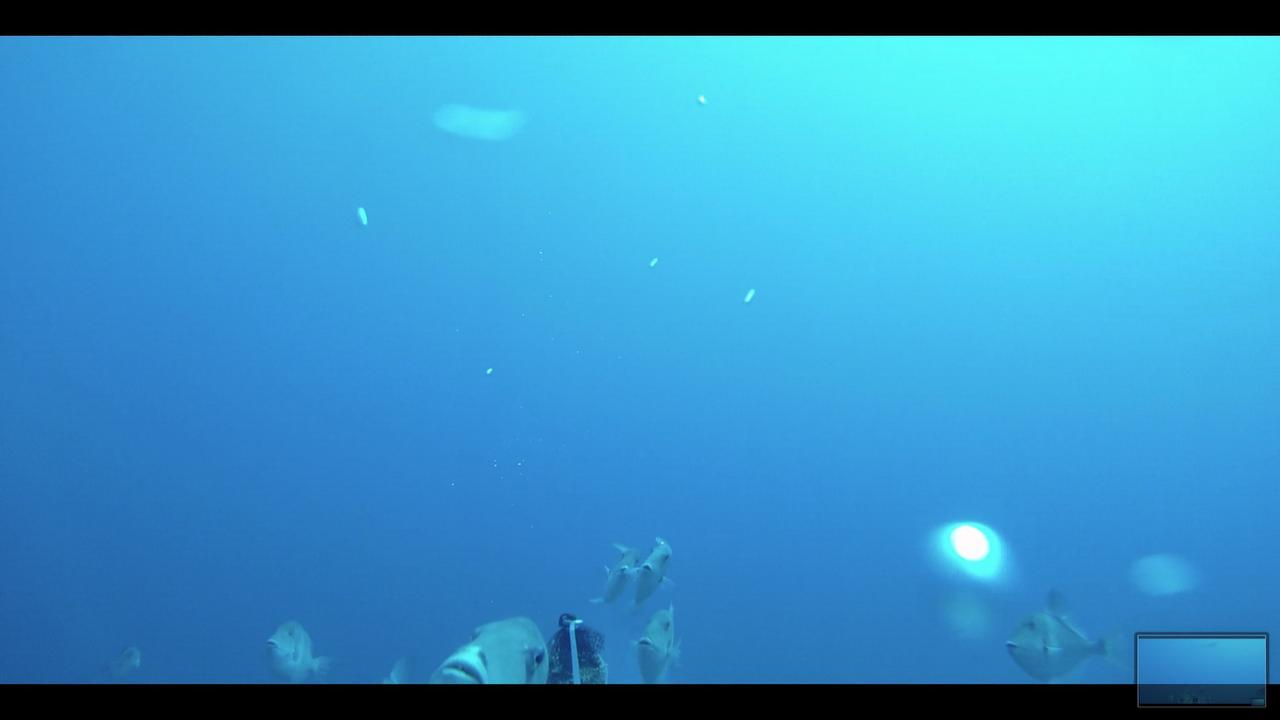balistes: (430, 602, 565, 687), (1001, 593, 1118, 681), (258, 615, 340, 683), (630, 600, 689, 680), (594, 534, 643, 604), (635, 529, 675, 598)
